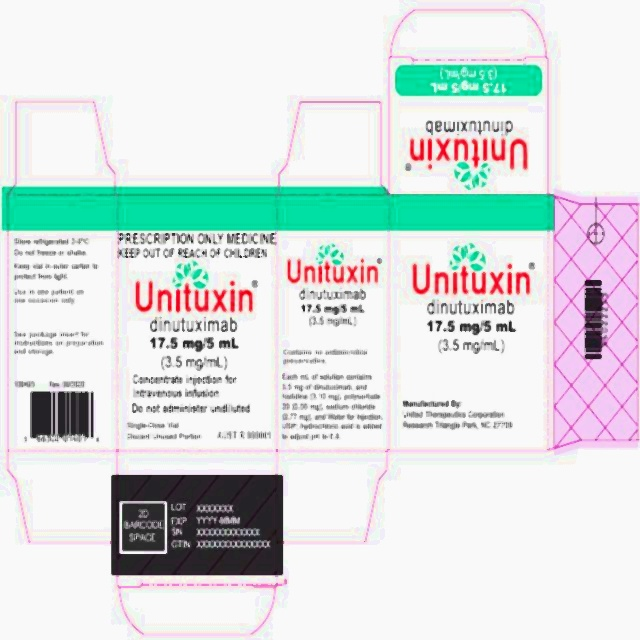Artwork: (0, 0, 640, 640)
Back_Panel: (389, 193, 548, 449)
Bottom_Part: (118, 450, 277, 588)
Extra_Areas: (549, 190, 640, 451), (277, 450, 388, 545), (6, 451, 118, 545), (277, 101, 388, 194), (11, 100, 117, 194), (389, 6, 547, 58), (118, 588, 276, 636), (118, 185, 277, 193)
Front_Panel: (118, 194, 276, 451)
Side_Panel: (277, 193, 389, 450), (8, 193, 118, 451)
Top_Panel: (388, 57, 548, 193)
